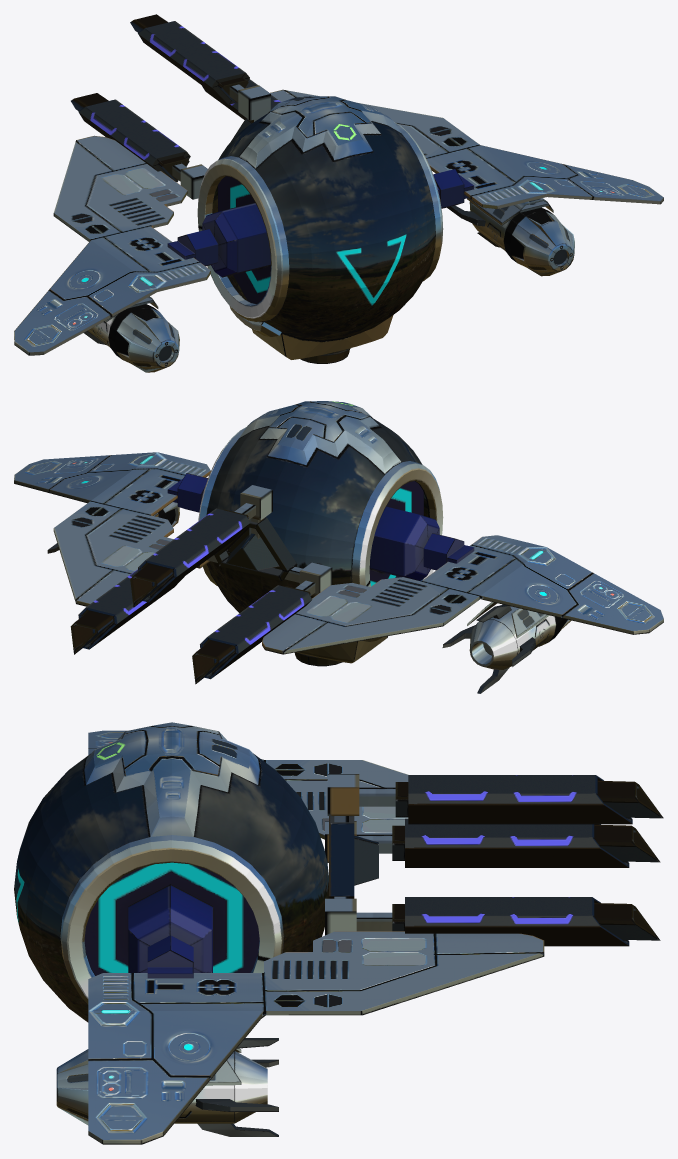
File: parcali_drone_1b.FBX
The picture shows the model from 3 angles, top to bottom: view 1: azimuth 30°, elevation 25°; view 2: azimuth 150°, elevation 25°; view 3: azimuth 270°, elevation 25°; orthographic projection. The views are drawn at different scales.
Parts seen in each view (by area): view 1: Object004, Object014, Object013, Object009, Object001, Object006, Object015, Object019, Object018, Object010, Object003, Object021 (+4 smaller); view 2: Object014, Object005, Object013, Object001, Object009, Object019, Object021, Object018, Object010, Object006, Object020, Object003 (+4 smaller); view 3: Object013, Object008, Object004, Object005, Object019, Object018, Object001, Object020, Object007, Object015, Object021, Object014.
Boxes of the visible parts, box(x1,y1,x2,y2) form: Object004: box(255, 121, 435, 340); Object014: box(14, 135, 210, 355); Object013: box(270, 89, 663, 208); Object009: box(167, 176, 271, 303); Object001: box(239, 96, 401, 169); Object006: box(197, 156, 289, 321); Object015: box(447, 202, 574, 276); Object019: box(130, 14, 249, 104); Object018: box(71, 93, 190, 182); Object010: box(84, 304, 179, 372); Object003: box(229, 304, 405, 359); Object021: box(180, 85, 270, 199); Object014: box(262, 535, 663, 654); Object005: box(207, 426, 385, 612); Object013: box(14, 452, 210, 606); Object001: box(239, 401, 401, 473); Object009: box(369, 481, 474, 586); Object019: box(130, 503, 255, 607); Object021: box(196, 485, 332, 596); Object018: box(192, 580, 315, 684); Object010: box(442, 604, 571, 693); Object006: box(351, 461, 443, 586); Object020: box(70, 569, 184, 654); Object003: box(296, 636, 387, 663); Object013: box(88, 931, 544, 1144); Object008: box(84, 862, 259, 978); Object004: box(14, 753, 150, 1022); Object005: box(194, 753, 328, 1017); Object019: box(359, 775, 663, 824); Object018: box(356, 818, 660, 867); Object001: box(84, 722, 259, 836); Object020: box(356, 897, 660, 946); Object007: box(60, 835, 283, 1004); Object015: box(56, 1038, 278, 1136); Object021: box(325, 774, 378, 935); Object014: box(88, 730, 408, 839).
Size of the model in its own units: 197 by 72.99 by 132.
Materials: 1 (1 with a texture image).
